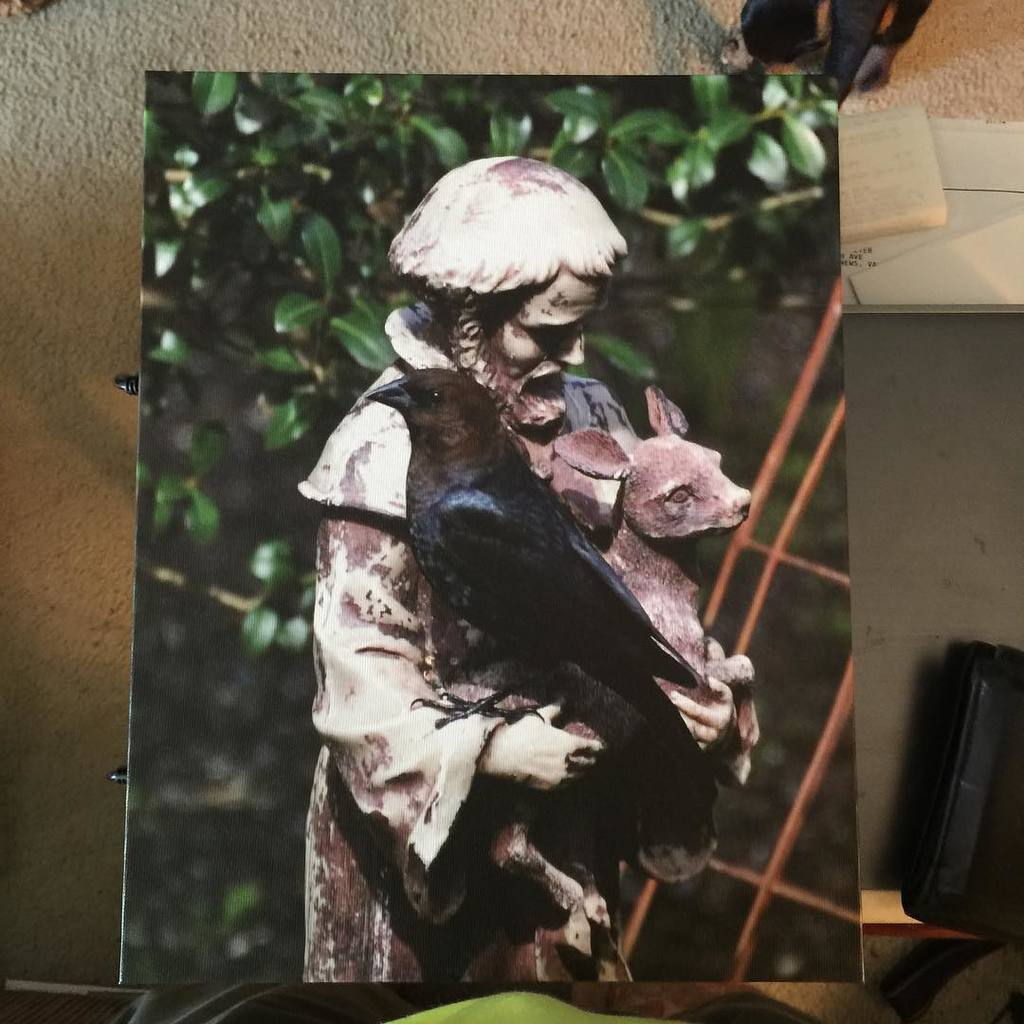Animal: (459, 380, 762, 960), (360, 368, 719, 814)
